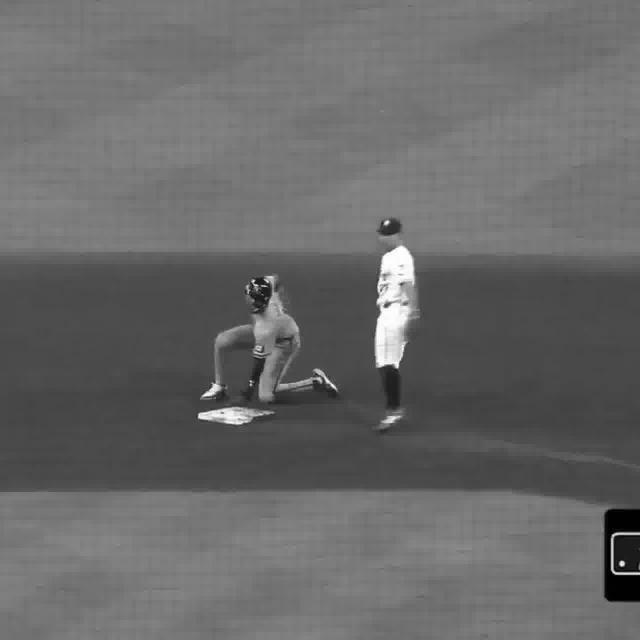base: (196, 406, 272, 428)
shoe: (312, 371, 341, 396), (375, 414, 405, 436), (200, 386, 228, 404)
